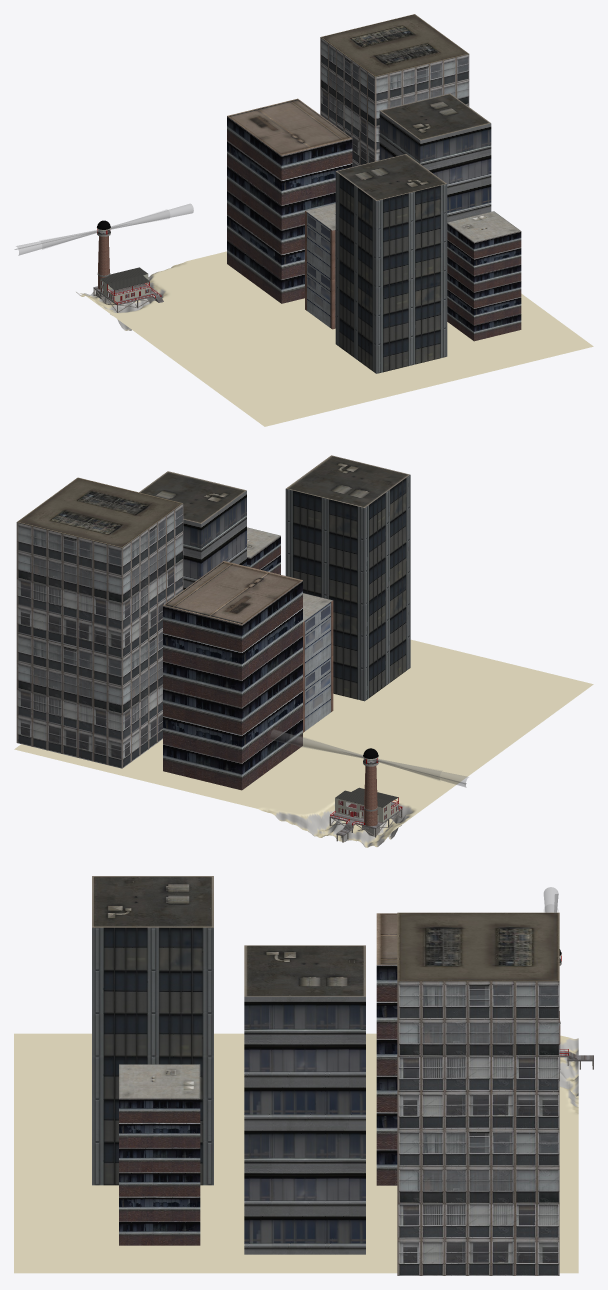
3 renders of one model, top to bottom at view 1: azimuth 30°, elevation 25°; view 2: azimuth 150°, elevation 25°; view 3: azimuth 270°, elevation 25°, orthographic. The views are drawn at different scales.
Visible parts, largest first — view 1: FG-2015-Offsim City Building low Poly (×6), Terrain 4,12, Terrain 4,14, Terrain 4,13, Terrain 5,12, Terrain 7,12, Terrain 5,14, Terrain 5,13, Terrain 6,12, Terrain 5,15, Seaside Lighthouse Front Steps, Terrain 4,15 (+1 smaller); view 2: FG-2015-Offsim City Building low Poly (×6), Terrain 4,12, Terrain 4,13, Terrain 4,14, Terrain 5,13, Terrain 5,15, Terrain 5,12, Terrain 5,14, Terrain 4,15, Seaside Lighthouse Front Steps, Terrain 6,15, Seaside Lighthouse Light (+1 smaller); view 3: FG-2015-Offsim City Building low Poly (×5), Terrain 7,12, Terrain 6,12, Terrain 7,13, Terrain 4,12, Terrain 5,12, Terrain 7,14, Terrain 6,13, Terrain 4,13, Terrain 5,13, Terrain 6,14, Terrain 7,15 (+5 smaller).
Boxes of the visible parts, left/top/right/bottom form: FG-2015-Offsim City Building low Poly (×6): left=227, top=14, right=521, bottom=373; Terrain 4,12: left=217, top=372, right=346, bottom=426; Terrain 4,14: left=122, top=302, right=251, bottom=357; Terrain 4,13: left=170, top=337, right=298, bottom=391; Terrain 5,12: left=300, top=358, right=428, bottom=406; Terrain 7,12: left=476, top=312, right=593, bottom=366; Terrain 5,14: left=205, top=289, right=319, bottom=337; Terrain 5,13: left=252, top=321, right=354, bottom=371; Terrain 6,12: left=403, top=332, right=511, bottom=386; Terrain 5,15: left=162, top=251, right=260, bottom=302; Seaside Lighthouse Front Steps: left=93, top=220, right=163, bottom=312; Terrain 4,15: left=76, top=271, right=203, bottom=330; FG-2015-Offsim City Building low Poly (×6): left=16, top=455, right=410, bottom=790; Terrain 4,12: left=449, top=662, right=593, bottom=722; Terrain 4,13: left=396, top=701, right=540, bottom=761; Terrain 4,14: left=343, top=739, right=487, bottom=800; Terrain 5,13: left=320, top=685, right=448, bottom=739; Terrain 5,15: left=198, top=763, right=341, bottom=823; Terrain 5,12: left=387, top=639, right=501, bottom=700; Terrain 5,14: left=279, top=721, right=394, bottom=778; Terrain 4,15: left=290, top=778, right=433, bottom=847; Seaside Lighthouse Front Steps: left=329, top=748, right=402, bottom=842; Terrain 6,15: left=106, top=739, right=212, bottom=794; Seaside Lighthouse Light: left=270, top=729, right=468, bottom=787; FG-2015-Offsim City Building low Poly (×5): left=92, top=876, right=559, bottom=1275; Terrain 7,12: left=14, top=1213, right=155, bottom=1273; Terrain 6,12: left=14, top=1153, right=118, bottom=1213; Terrain 7,13: left=155, top=1213, right=297, bottom=1273; Terrain 4,12: left=14, top=1033, right=91, bottom=1093; Terrain 5,12: left=14, top=1093, right=91, bottom=1153; Terrain 7,14: left=297, top=1213, right=397, bottom=1273; Terrain 6,13: left=200, top=1153, right=244, bottom=1213; Terrain 4,13: left=214, top=1033, right=244, bottom=1093; Terrain 5,13: left=214, top=1093, right=244, bottom=1153; Terrain 6,14: left=366, top=1153, right=397, bottom=1213; Terrain 7,15: left=559, top=1213, right=578, bottom=1273.
Size of the model in its own units: 312 by 167 by 262.
Materials: 57 (46 with a texture image).
